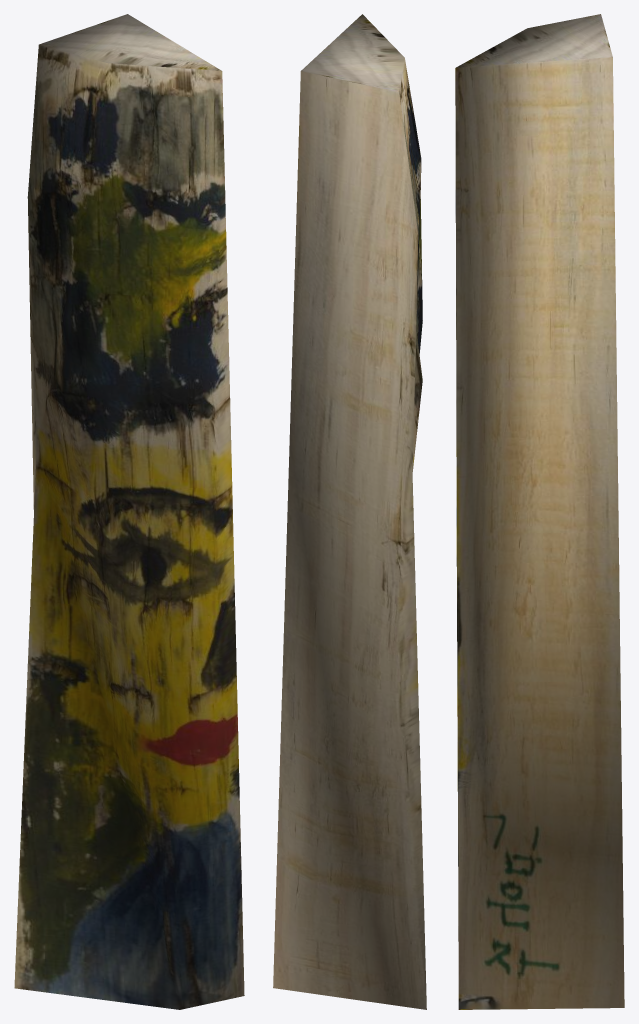
File: 481_GP_KEJ124.obj
3 renders of one model, left to right at view 1: azimuth 30°, elevation 25°; view 2: azimuth 150°, elevation 25°; view 3: azimuth 270°, elevation 25°, orthographic. The views are drawn at different scales.
Parts seen in each view (by area): view 1: 481_GP_KEJ124; view 2: 481_GP_KEJ124; view 3: 481_GP_KEJ124.
Boxes of the visible parts, left/top/right/bottom form: 481_GP_KEJ124: left=14, top=14, right=244, bottom=1009; 481_GP_KEJ124: left=273, top=14, right=426, bottom=1009; 481_GP_KEJ124: left=455, top=14, right=624, bottom=1009.
Bounding box in the file's own units: 73.84 × 413 × 67.39.
1 material, 1 textured.
